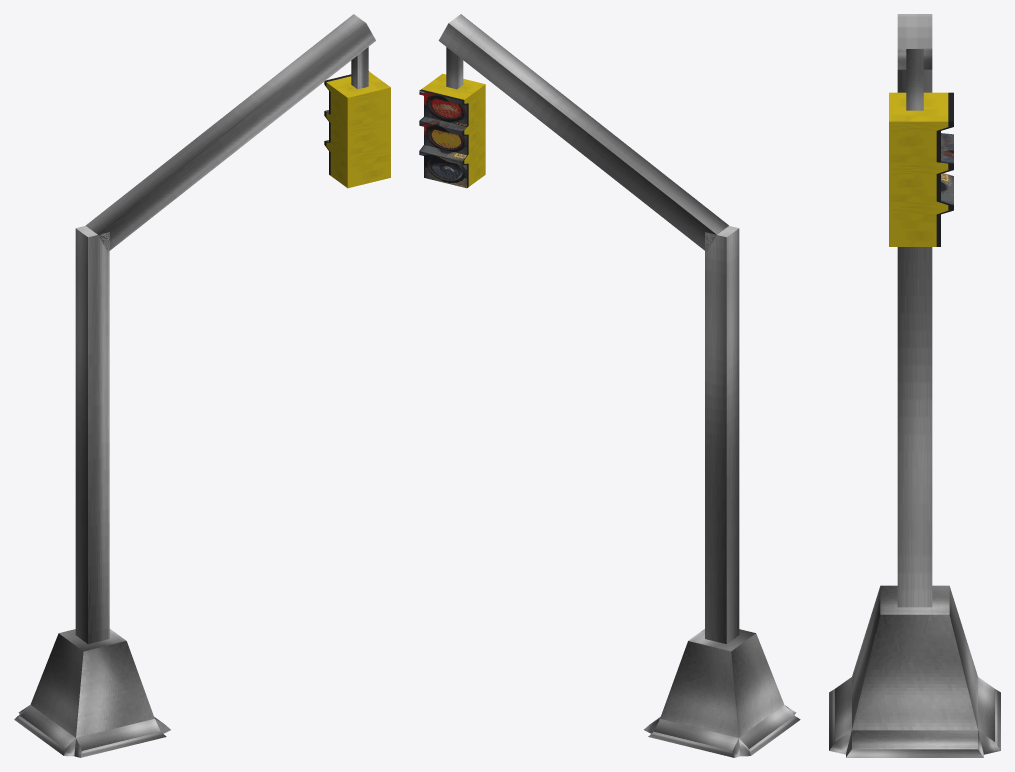
Rendered from semaforo.fbx.
The picture shows the model from 3 angles, left to right: view 1: azimuth 30°, elevation 25°; view 2: azimuth 150°, elevation 25°; view 3: azimuth 270°, elevation 25°; orthographic projection. The views are drawn at different scales.
Visible parts, largest first — view 1: metalbarbottom, lampbase, metalbartop, mesh, metalbartop_1; view 2: metalbarbottom, lampbase, metalbartop, mesh; view 3: lampbase, metalbarbottom, mesh, metalbartop, metalbartop_1.
Part boxes in pixels (bbox=[...]): metalbarbottom: bbox=[75, 226, 109, 644]; lampbase: bbox=[14, 629, 170, 757]; metalbartop: bbox=[85, 14, 375, 251]; mesh: bbox=[324, 71, 390, 188]; metalbartop_1: bbox=[351, 47, 368, 89]; metalbarbottom: bbox=[705, 226, 739, 644]; lampbase: bbox=[644, 629, 800, 757]; metalbartop: bbox=[438, 14, 728, 251]; mesh: bbox=[419, 73, 485, 188]; lampbase: bbox=[829, 585, 1000, 757]; metalbarbottom: bbox=[897, 69, 932, 607]; mesh: bbox=[889, 92, 953, 246]; metalbartop: bbox=[897, 14, 932, 69]; metalbartop_1: bbox=[906, 49, 923, 110].
Bounding box in the file's own units: 99.13 × 178 × 31.06.
Materials: 2 (2 with a texture image).
